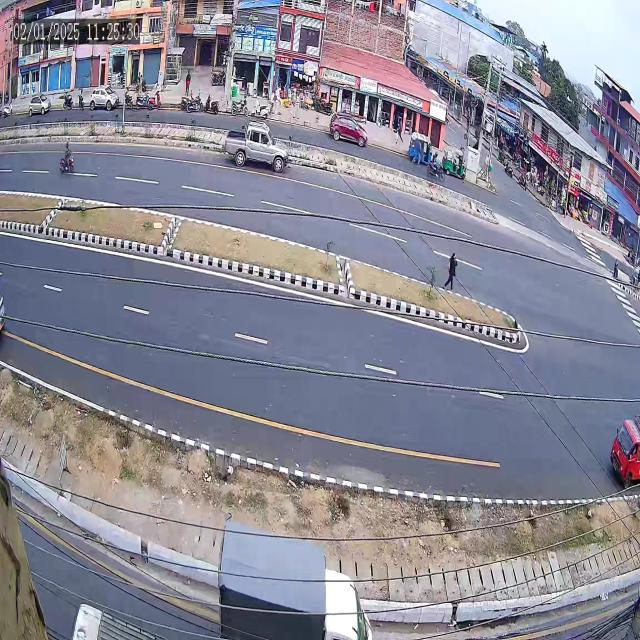motorcycle: (56, 140, 76, 185)
